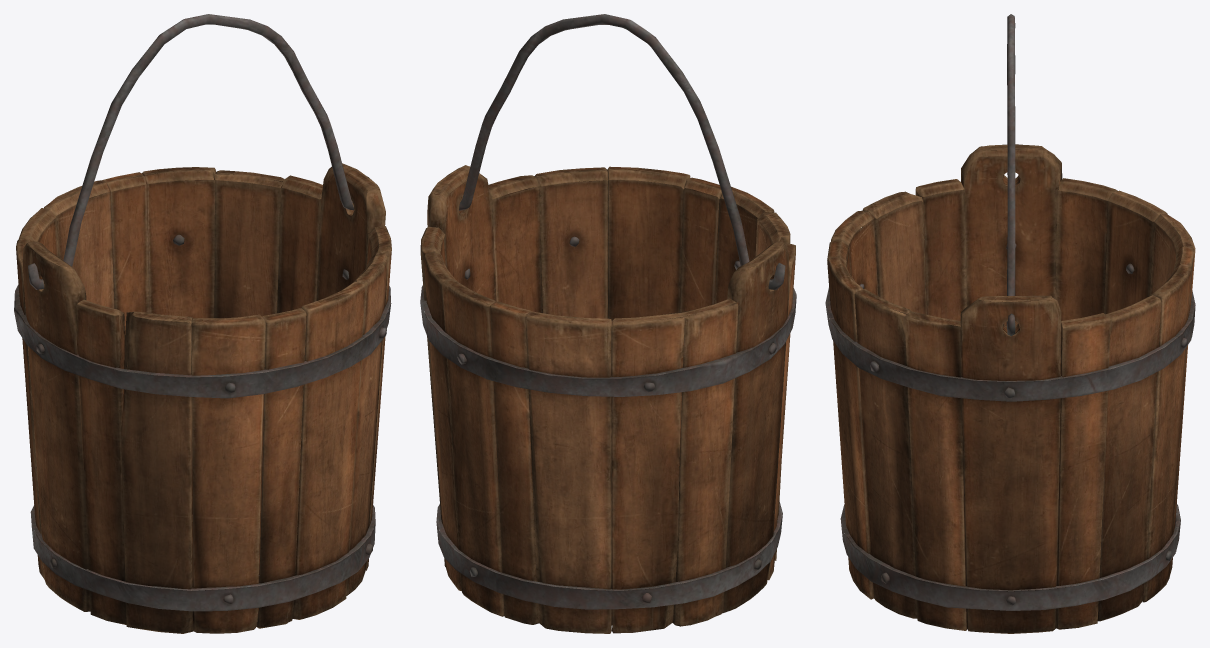
Rendered from wooden_bucket_01_1k.gltf.
The picture shows the model from 3 angles, left to right: view 1: azimuth 30°, elevation 25°; view 2: azimuth 150°, elevation 25°; view 3: azimuth 270°, elevation 25°; orthographic projection.
Visible parts, largest first — view 1: wooden_bucket_01, wooden_bucket_01_handle; view 2: wooden_bucket_01, wooden_bucket_01_handle; view 3: wooden_bucket_01, wooden_bucket_01_handle.
Boxes of the visible parts, x1,y1,x2,y2 form: wooden_bucket_01: (14,163,391,633); wooden_bucket_01_handle: (28,14,353,289); wooden_bucket_01: (420,165,796,633); wooden_bucket_01_handle: (459,14,785,290); wooden_bucket_01: (825,144,1195,633); wooden_bucket_01_handle: (1006,14,1015,336).
Size of the model in its own units: 0.3674 by 0.5498 by 0.3412.
1 material, 1 textured.
